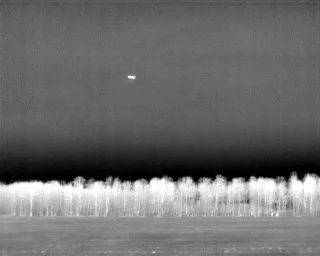DRONE: (125, 71, 139, 83)
